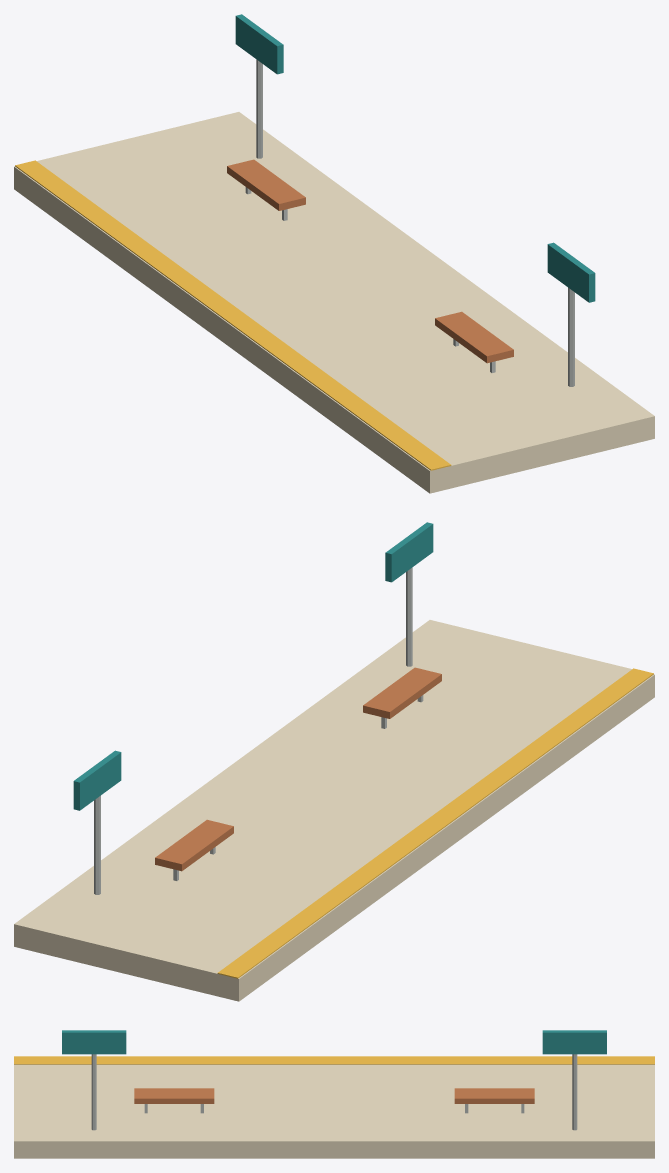
File: platform.glb
3 views of the same model, one above another, from view 1: azimuth 30°, elevation 25°; view 2: azimuth 150°, elevation 25°; view 3: azimuth 270°, elevation 25° (orthographic). The views are drawn at different scales.
Visible parts, largest first — view 1: transit/platform; view 2: transit/platform; view 3: transit/platform.
Part boxes in pixels (bbox=[...]): transit/platform: bbox=[14, 14, 654, 493]; transit/platform: bbox=[14, 522, 654, 1001]; transit/platform: bbox=[14, 1030, 654, 1158].
Bounding box in the file's own units: 5 × 3.18 × 16.
